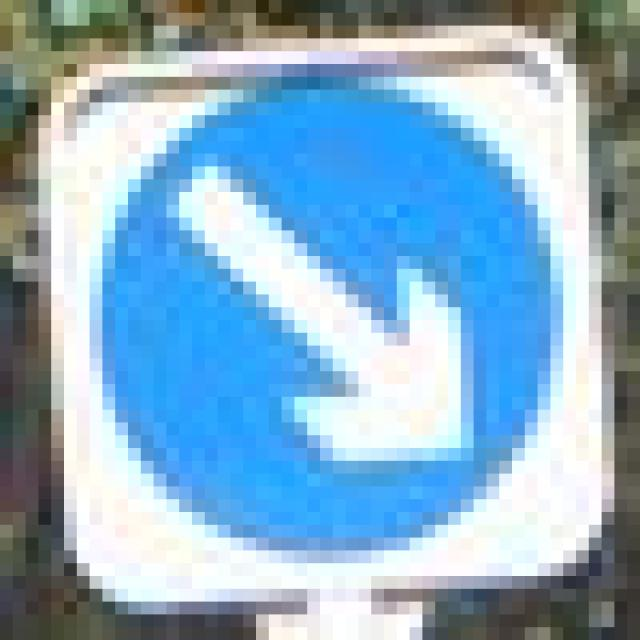compulsory_keep_left: (13, 51, 614, 627)
